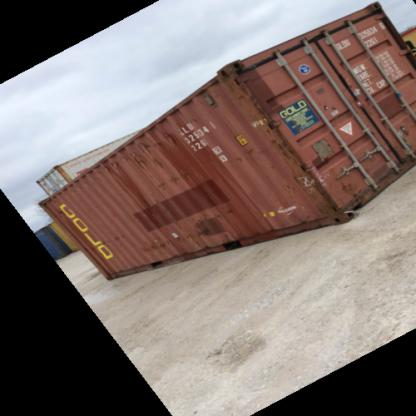Damage: (136, 207, 230, 256), (124, 125, 180, 178), (266, 118, 305, 166), (227, 72, 270, 112), (304, 168, 338, 209), (342, 169, 368, 203), (228, 144, 260, 165), (95, 229, 125, 249), (317, 100, 339, 116)
